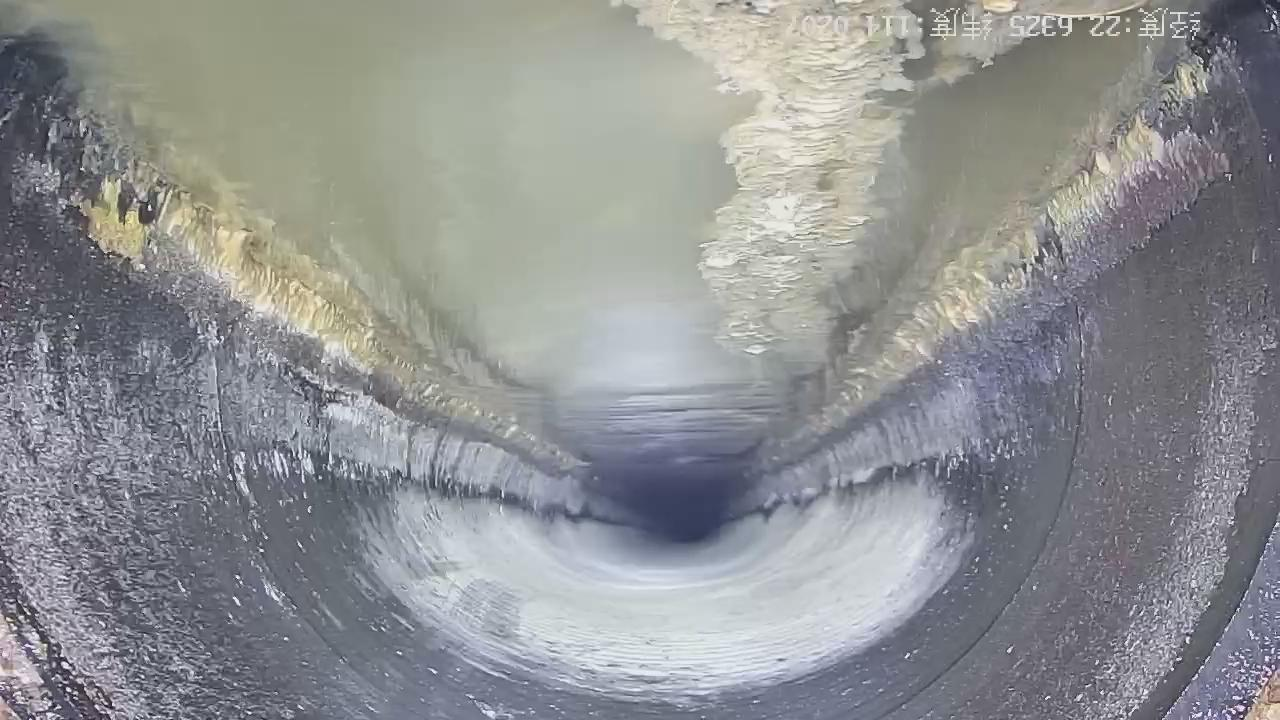FZ: (613, 1, 1073, 381)
JG: (755, 47, 1207, 470), (84, 164, 579, 472)
